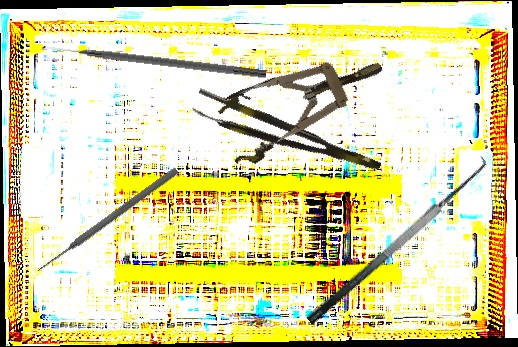Hook Surgical: (46, 41, 267, 80)
Pusher: (34, 165, 180, 276)
Spatula Surgical: (292, 148, 496, 326)
Speculum: (209, 34, 397, 171)
Tissue Forceps: (190, 86, 383, 188)
